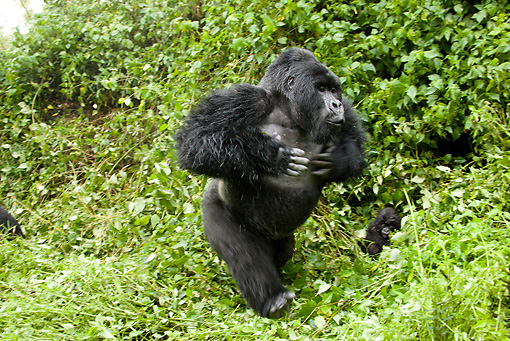Gorilla: (180, 56, 365, 308)
